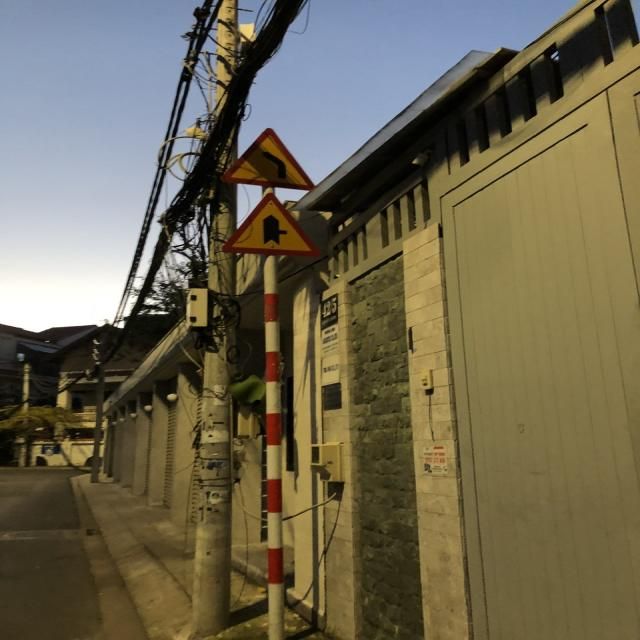Bien bao cho ngoat nguy hiem: (218, 121, 320, 192)
Bien bao giao nhau voi duong khong uu tien: (220, 191, 326, 260)
